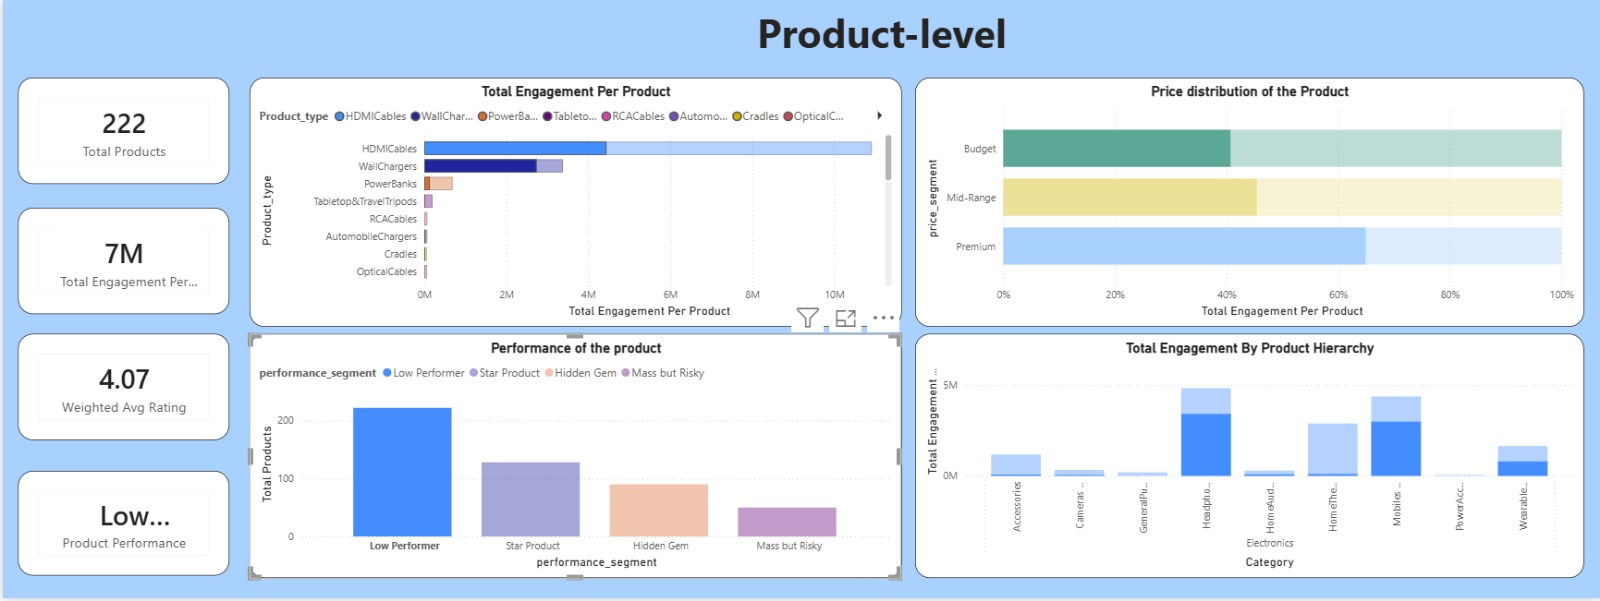

The dashboard page shown, as its layout file describes it:
{"tool":"powerbi","page":{"name":"Page 2","canvas":[1920,720],"ordinal":1},"visuals":[{"type":"cardVisual","fields":{"Data":["product_table.Total Products"]},"box":[18,94,254,128],"z":0},{"type":"cardVisual","fields":{"Data":["product_table.Product Performance"]},"box":[18,566,254,126],"z":1000},{"type":"cardVisual","fields":{"Data":["product_table.Weighted Avg Rating"]},"box":[18,402,254,128],"z":2000},{"type":"cardVisual","fields":{"Data":["product_table.Total Engagement Per Product"]},"box":[18,250,254,128],"z":3000},{"type":"barChart","title":"Total Engagement Per Product ","fields":{"Category":["product_table.Product_type"],"Series":["product_table.Product_type"],"Y":["product_table.Total Engagement Per Product"]},"box":[296,94,784,300],"z":4000},{"type":"columnChart","title":"Performance of the product","fields":{"Category":["product_table.performance_segment"],"Series":["product_table.performance_segment"],"Y":["product_table.Total Products"]},"box":[296,402,784,294],"z":5000},{"type":"hundredPercentStackedBarChart","title":"Price distribution of the Product","fields":{"Category":["product_table.price_segment"],"Y":["product_table.Total Engagement Per Product"]},"box":[1096,94,804,300],"z":6000},{"type":"clusteredColumnChart","title":"Total Engagement By Product Hierarchy","fields":{"Category":["product_table.department Hierarchy.department","product_table.department Hierarchy.Category","product_table.department Hierarchy.Product_type"],"Y":["product_table.Total Engagement Per Product"]},"box":[1096,402,804,294],"z":7000},{"type":"textbox","box":[751.7,0,623.3,93.3],"z":8000}]}

Visuals, with their boxes in screenshot pixels (x1, y1, x2, y2), scaled from the page's 1920x720 canvas onto the 1600x601 screenshot:
cardVisual - product_table.Total Products: locate(15, 78, 227, 185)
cardVisual - product_table.Product Performance: locate(15, 472, 227, 578)
cardVisual - product_table.Weighted Avg Rating: locate(15, 336, 227, 442)
cardVisual - product_table.Total Engagement Per Product: locate(15, 209, 227, 316)
"Total Engagement Per Product " barChart: locate(247, 78, 900, 329)
"Performance of the product" columnChart: locate(247, 336, 900, 581)
"Price distribution of the Product" hundredPercentStackedBarChart: locate(913, 78, 1583, 329)
"Total Engagement By Product Hierarchy" clusteredColumnChart: locate(913, 336, 1583, 581)
textbox: locate(626, 0, 1146, 78)
